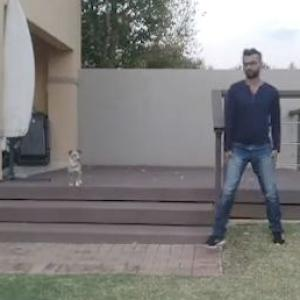follow: (227, 48, 286, 236)
